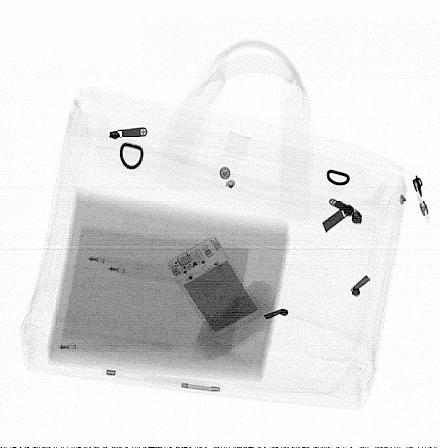Powerbank: (167, 233, 263, 337)
